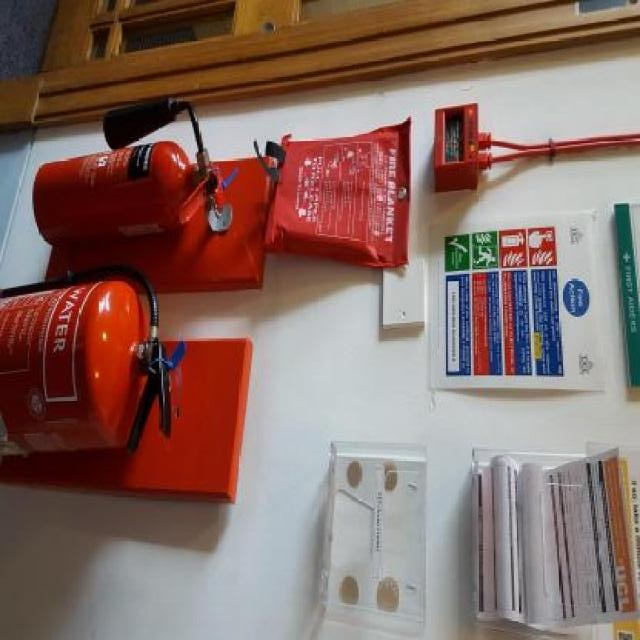fire extinguisher: (0, 266, 172, 457), (32, 96, 225, 247)
